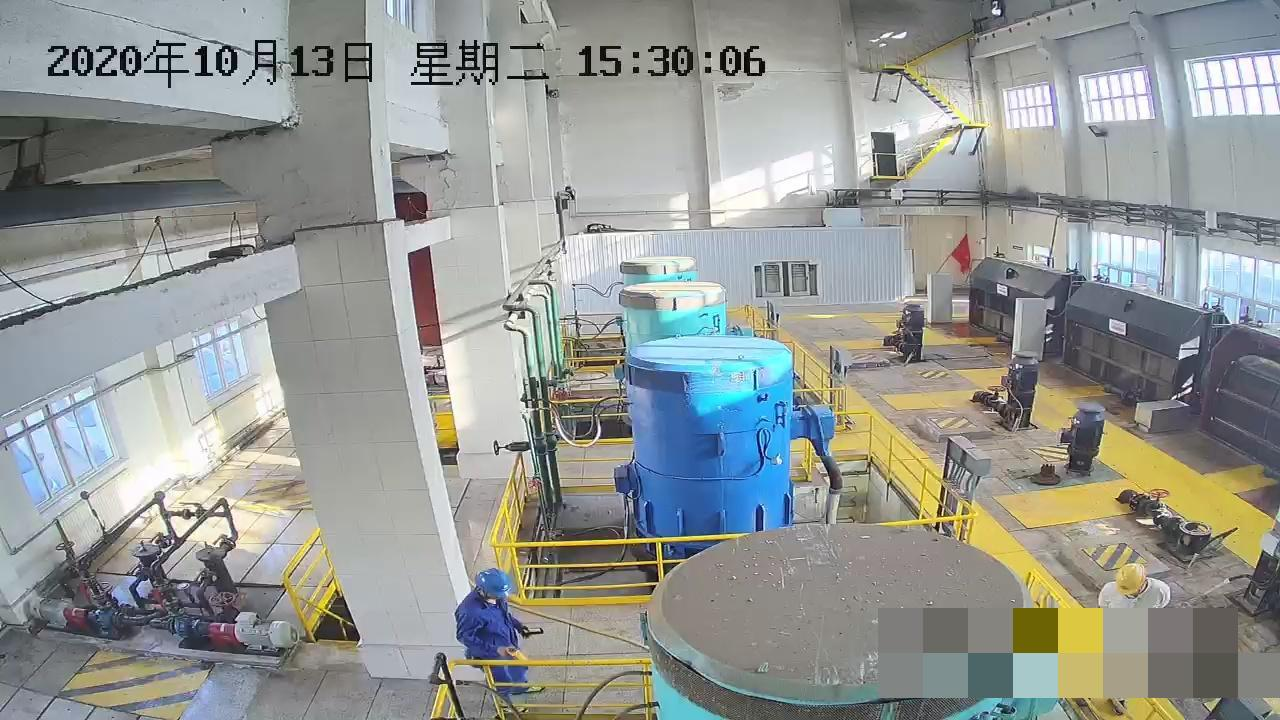hat: (473, 566, 511, 600), (1114, 562, 1145, 595)
person: (1073, 560, 1171, 715), (452, 564, 546, 713)
